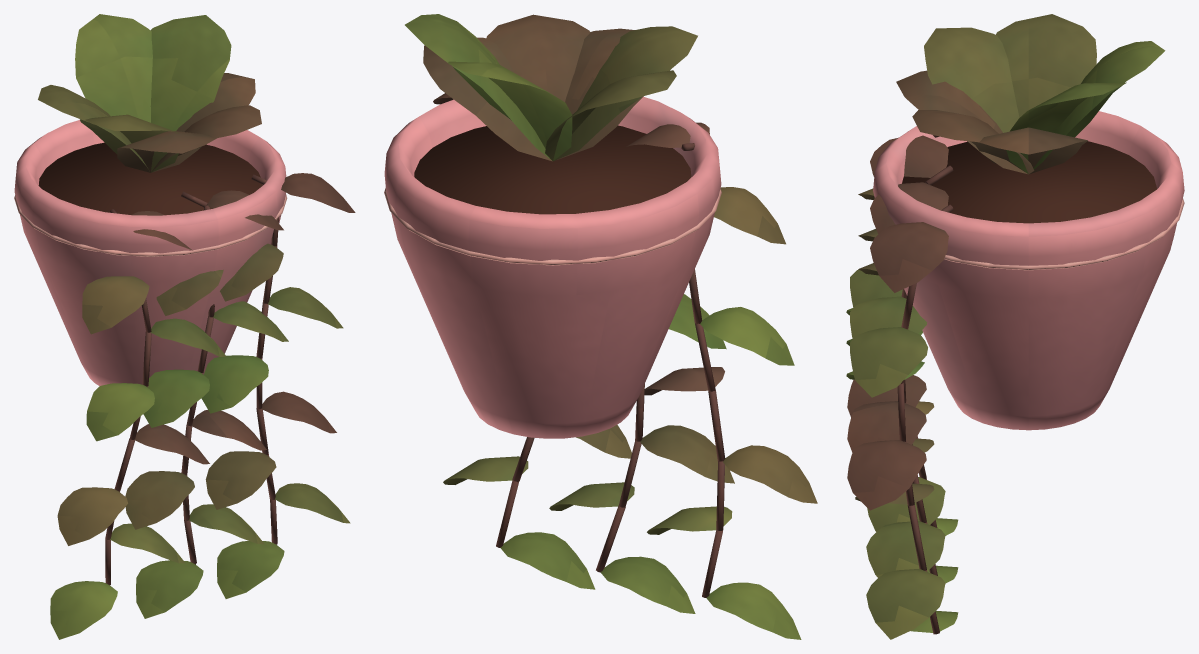
Rendered from WC_CAFE_Plant_Trailing_A.glb.
3 renders of one model, left to right at view 1: azimuth 30°, elevation 25°; view 2: azimuth 150°, elevation 25°; view 3: azimuth 270°, elevation 25°, orthographic. The views are drawn at different scales.
Visible parts, largest first — view 1: WC_CAFE_Plant_Trailing_A_DesignedMesh; view 2: WC_CAFE_Plant_Trailing_A_DesignedMesh; view 3: WC_CAFE_Plant_Trailing_A_DesignedMesh.
Boxes of the visible parts, bbox=[...] form: WC_CAFE_Plant_Trailing_A_DesignedMesh: bbox=[14, 14, 355, 639]; WC_CAFE_Plant_Trailing_A_DesignedMesh: bbox=[384, 14, 817, 639]; WC_CAFE_Plant_Trailing_A_DesignedMesh: bbox=[846, 14, 1184, 639].
Bounding box in the file's own units: 0.2795 × 0.4589 × 0.2437.
Materials: 4 (3 with a texture image).
